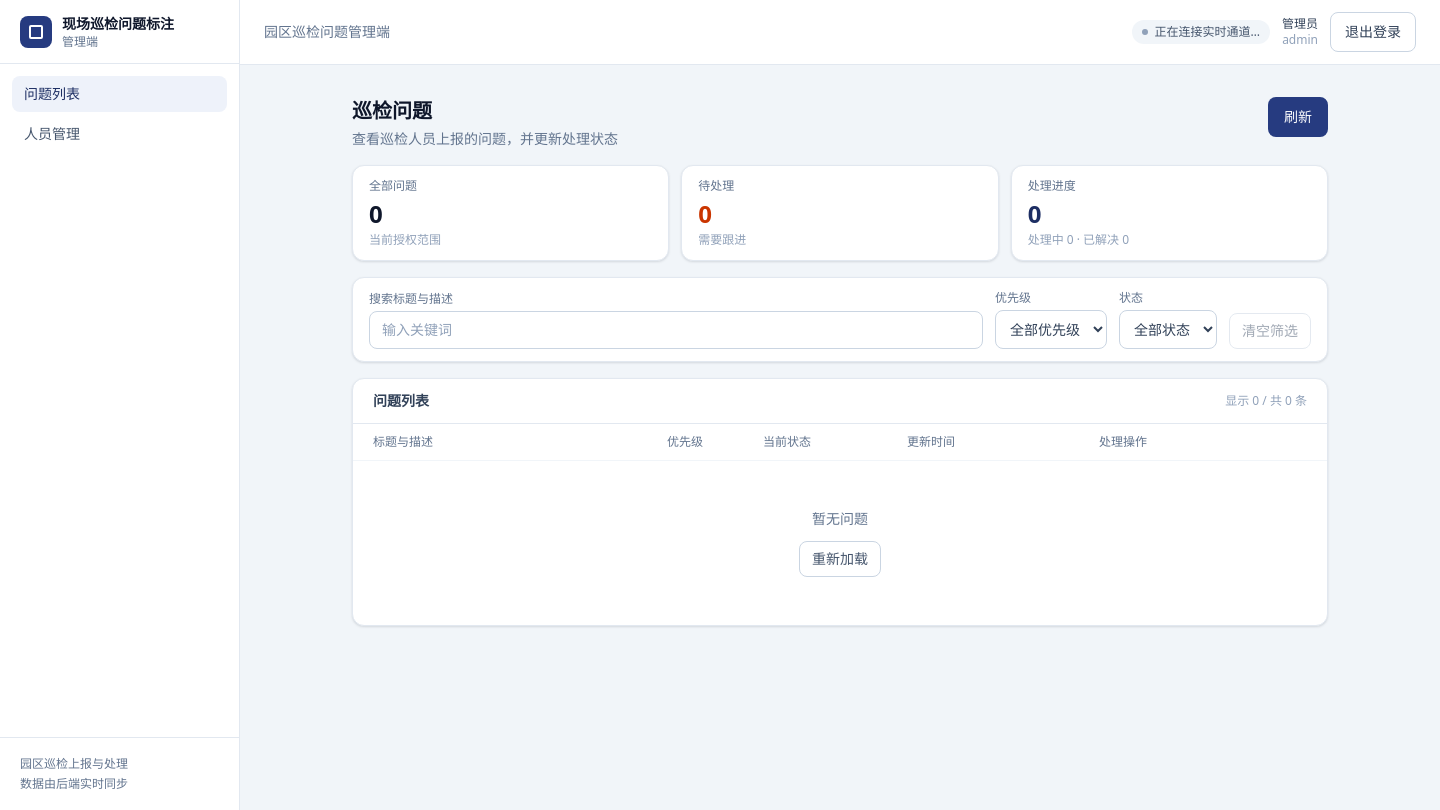
Scenario: 双入口导航（计划 008） › 侧栏提供「问题列表 / 人员管理」两个入口；切换到人员管理页显示账号列表
Click the button "人员管理": (120, 134) top-left (12, 116), bottom-right (227, 152)
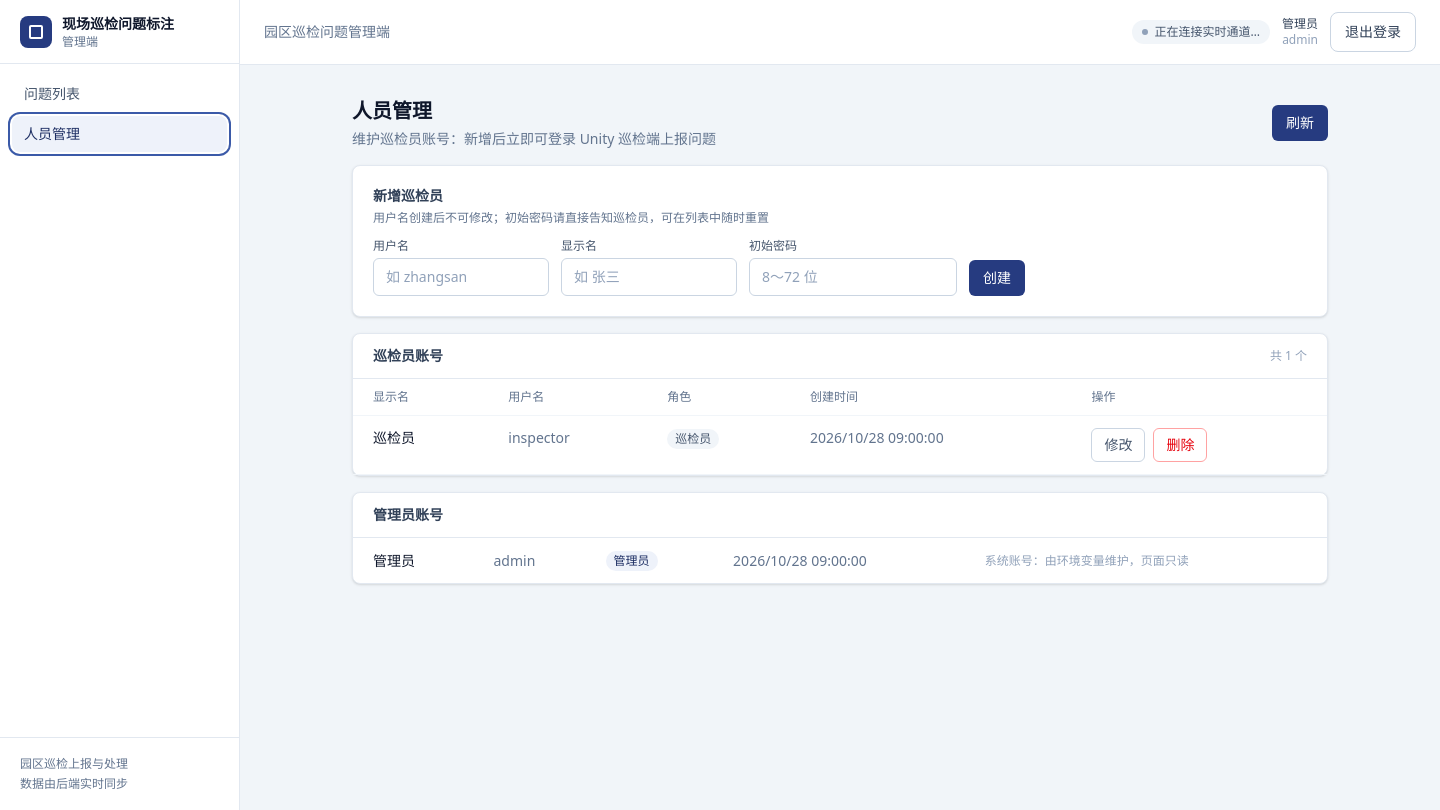
Check: the heading "新增巡检员" is shown, box top-left (373, 186), bottom-right (443, 205)
Check: the text "inspector" is shown, box top-left (492, 416), bottom-right (651, 474)
Check: the text "系统账号：由环境变量维护，页面只读" is shown, box top-left (969, 538), bottom-right (1327, 583)
